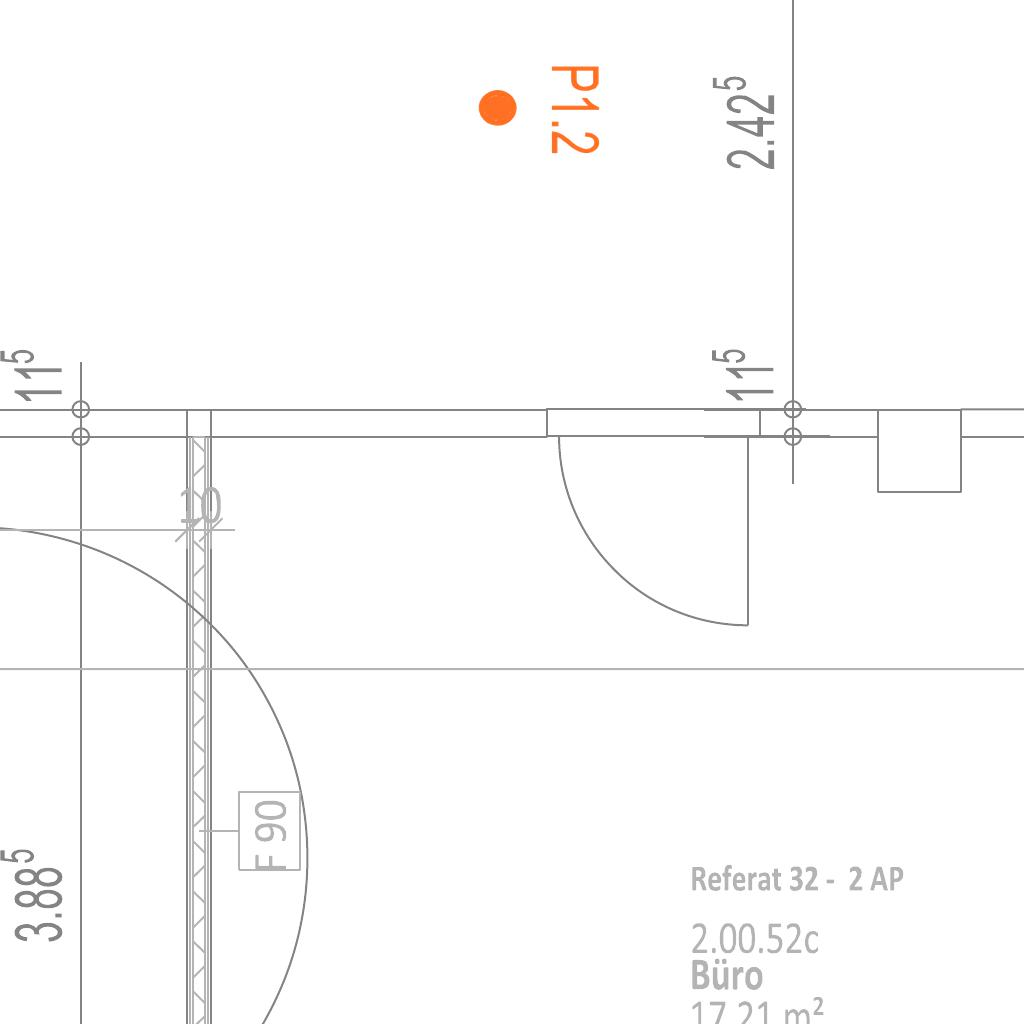Downlight_LED_Einbauleuchten_Flur: (475, 63, 603, 156)
